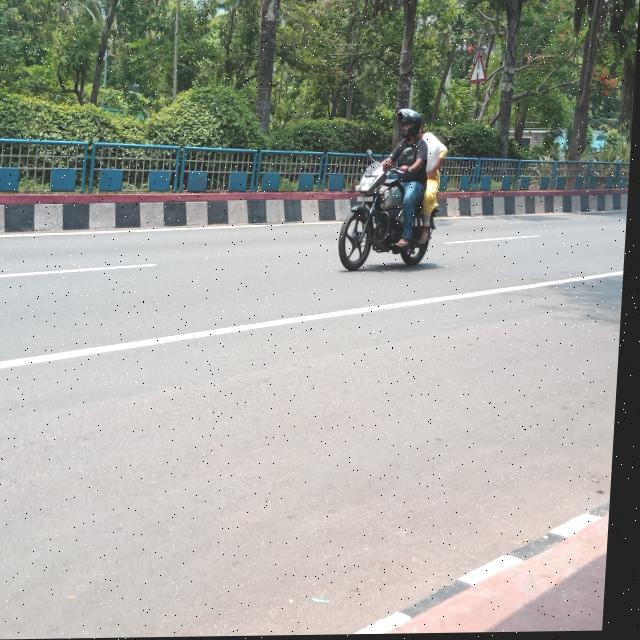bike: (328, 160, 440, 270)
